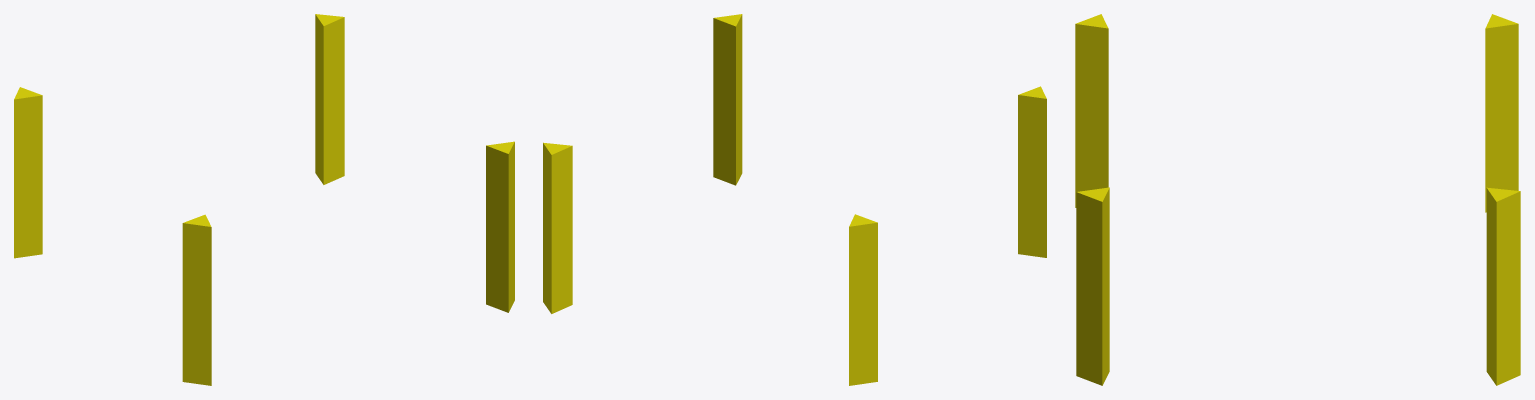
File: tile_select_marker.dae
3 views of the same model, side by side, from view 1: azimuth 30°, elevation 25°; view 2: azimuth 150°, elevation 25°; view 3: azimuth 270°, elevation 25° (orthographic). The views are drawn at different scales.
Visible parts, largest first — view 1: Cylinder.003; view 2: Cylinder.003; view 3: Cylinder.003.
Part boxes in pixels (<box>): Cylinder.003: <box>14,14,514,385</box>; Cylinder.003: <box>543,14,1046,385</box>; Cylinder.003: <box>1075,14,1520,385</box>.
Size of the model in its own units: 1.1 by 1.1 by 0.5.
